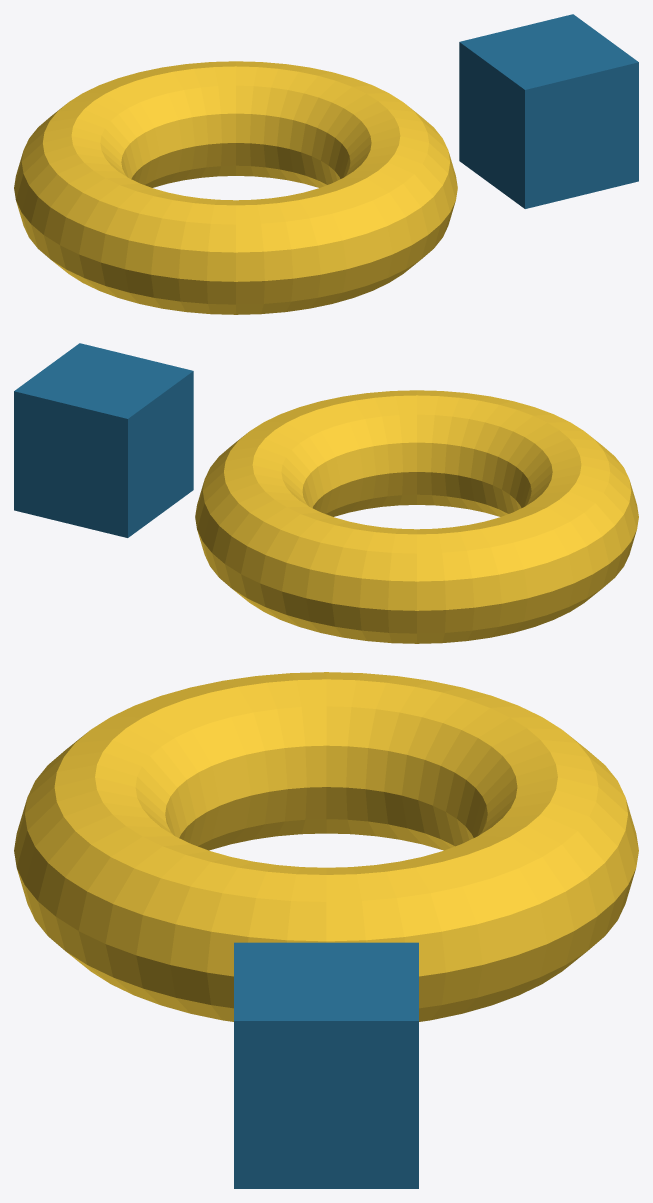
File: sample_model.glb
3 renders of one model, top to bottom at view 1: azimuth 30°, elevation 25°; view 2: azimuth 150°, elevation 25°; view 3: azimuth 270°, elevation 25°, orthographic. The views are drawn at different scales.
Visible parts, largest first — view 1: Torus, Cube; view 2: Torus, Cube; view 3: Torus, Cube.
Boxes of the visible parts, x1,y1,x2,y2 form: Torus: [14, 61, 457, 314]; Cube: [459, 14, 638, 208]; Torus: [195, 390, 638, 643]; Cube: [14, 343, 193, 537]; Torus: [14, 672, 638, 1021]; Cube: [234, 942, 418, 1188].
Size of the model in its own units: 3.95 by 0.8 by 2.7.
